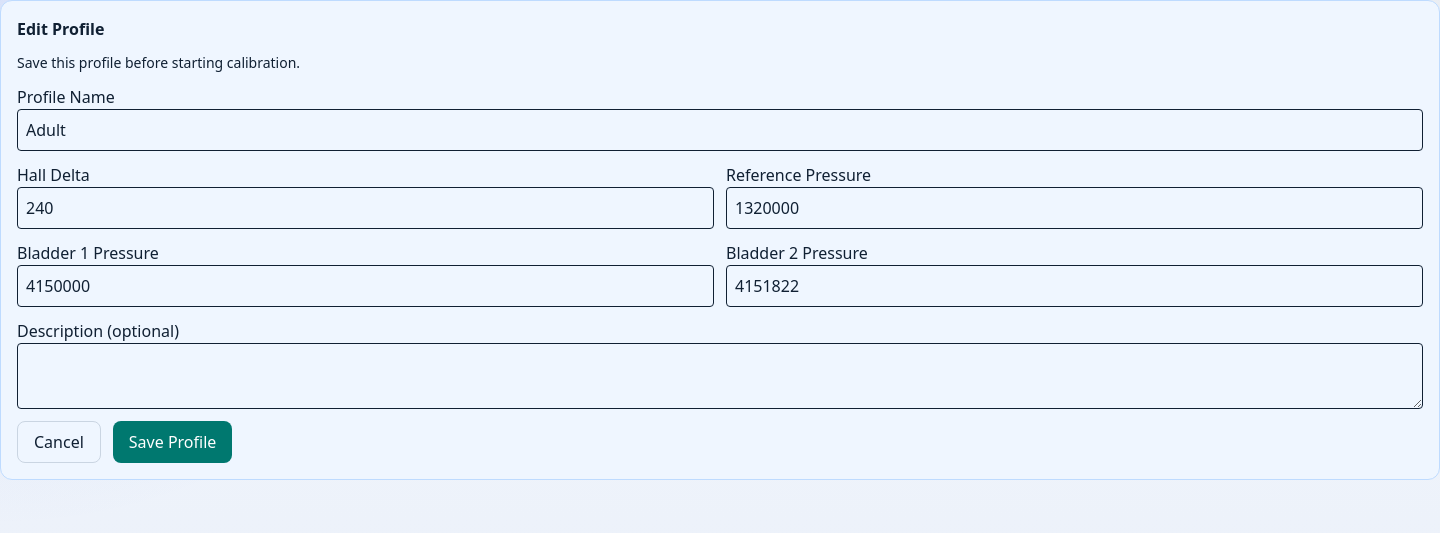
CalibrationProfileEditor validation › rejects invalid Hall delta 49
The width and height of the screenshot is (1440, 533).
Step 1. Replace the text in the number field labelled "Hall Delta" with "49" → (366, 208), box [17,187,714,229]
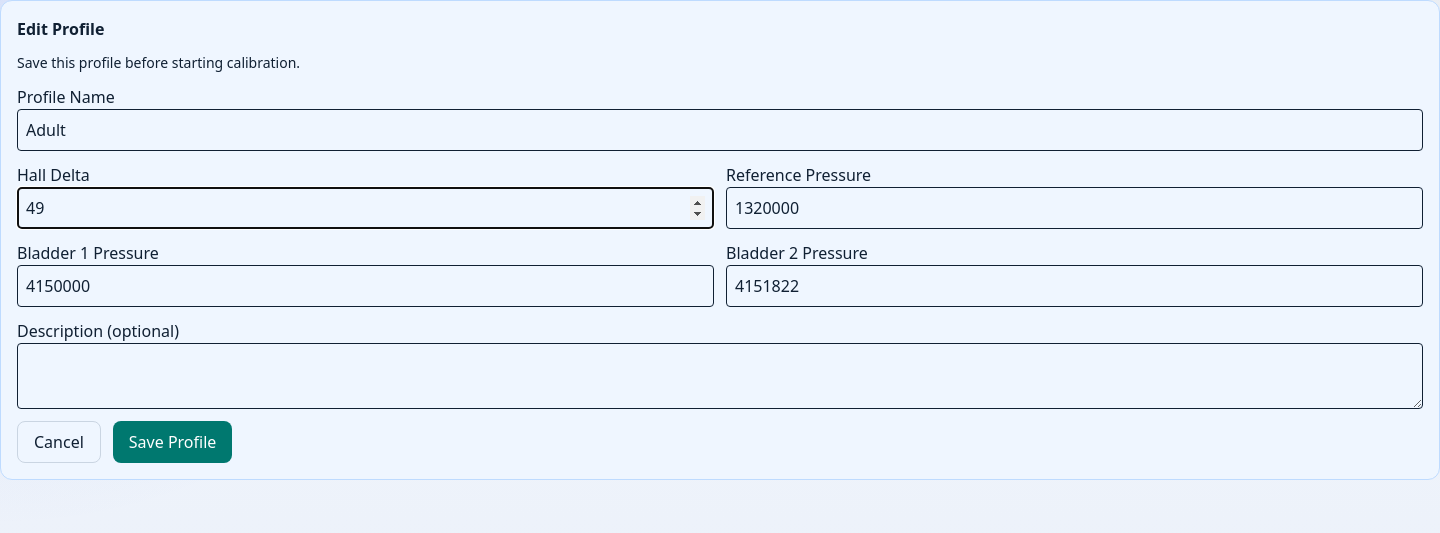
Step 2. Click the button "Save Profile" → click(173, 442), box [113,421,232,463]
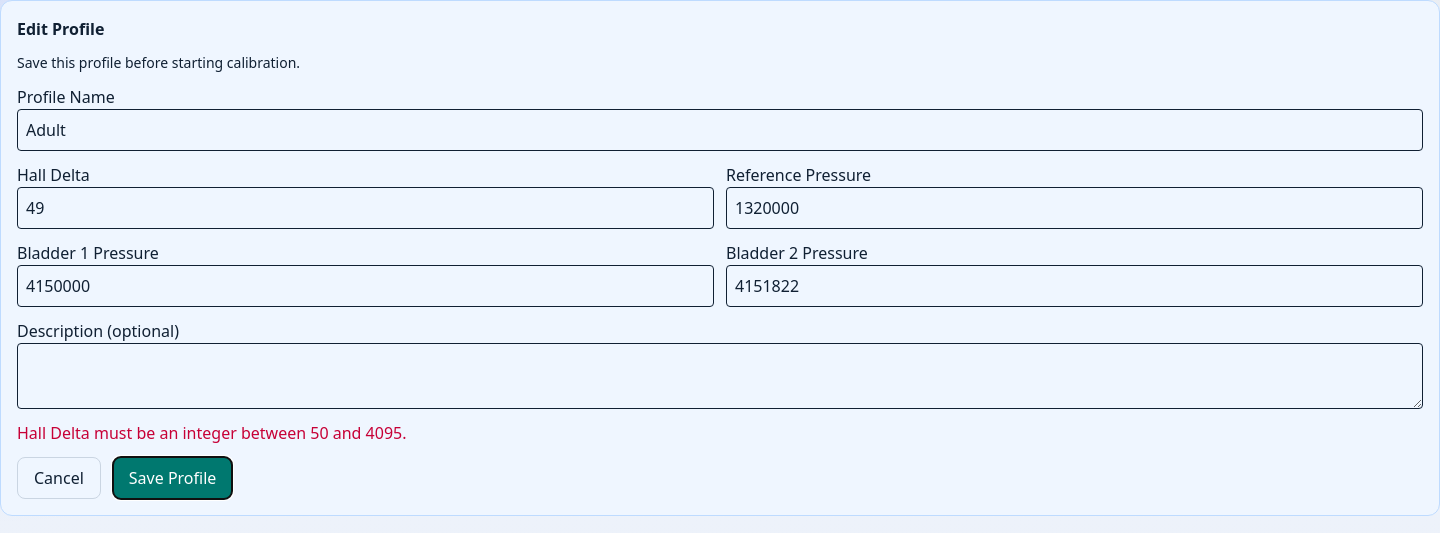
Check: the message shows "between 50 and 4095", box [17,422,406,444]
